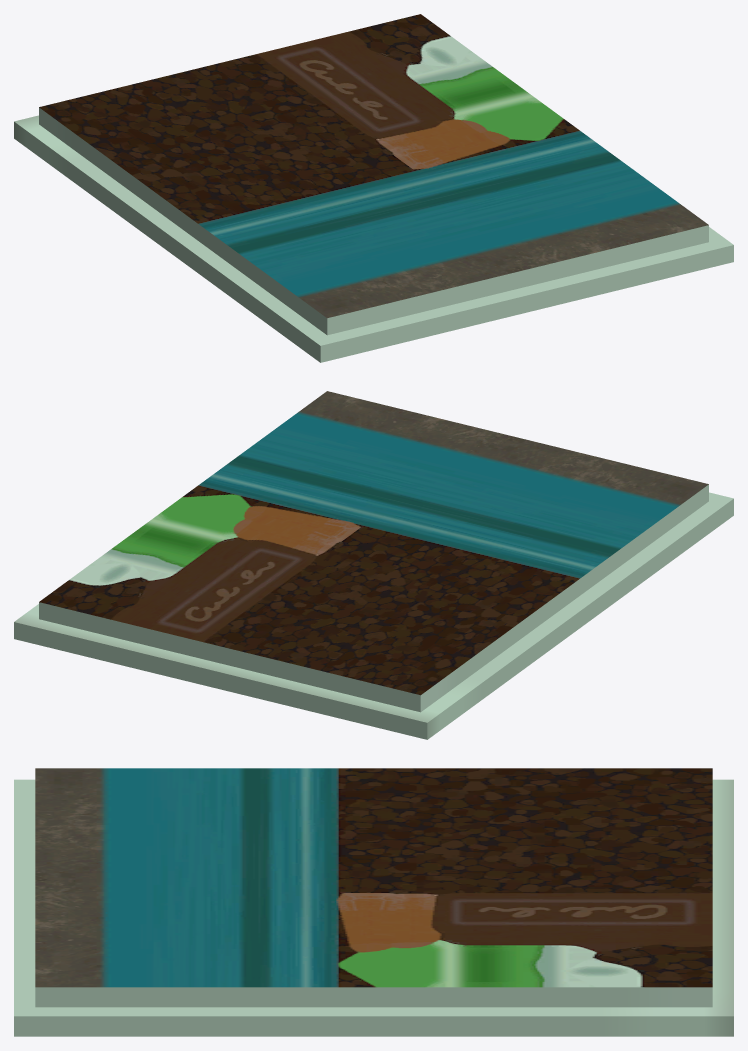
The model's file is art16.fbx.
3 views of the same model, one above another, from view 1: azimuth 30°, elevation 25°; view 2: azimuth 150°, elevation 25°; view 3: azimuth 270°, elevation 25° (orthographic). The views are drawn at different scales.
Visible parts, largest first — view 1: Art16; view 2: Art16; view 3: Art16.
Boxes of the visible parts, x1,y1,x2,y2 form: Art16: [14, 14, 733, 362]; Art16: [14, 391, 733, 739]; Art16: [14, 768, 733, 1036].
Bounding box in the file's own units: 170 × 13.42 × 218.
